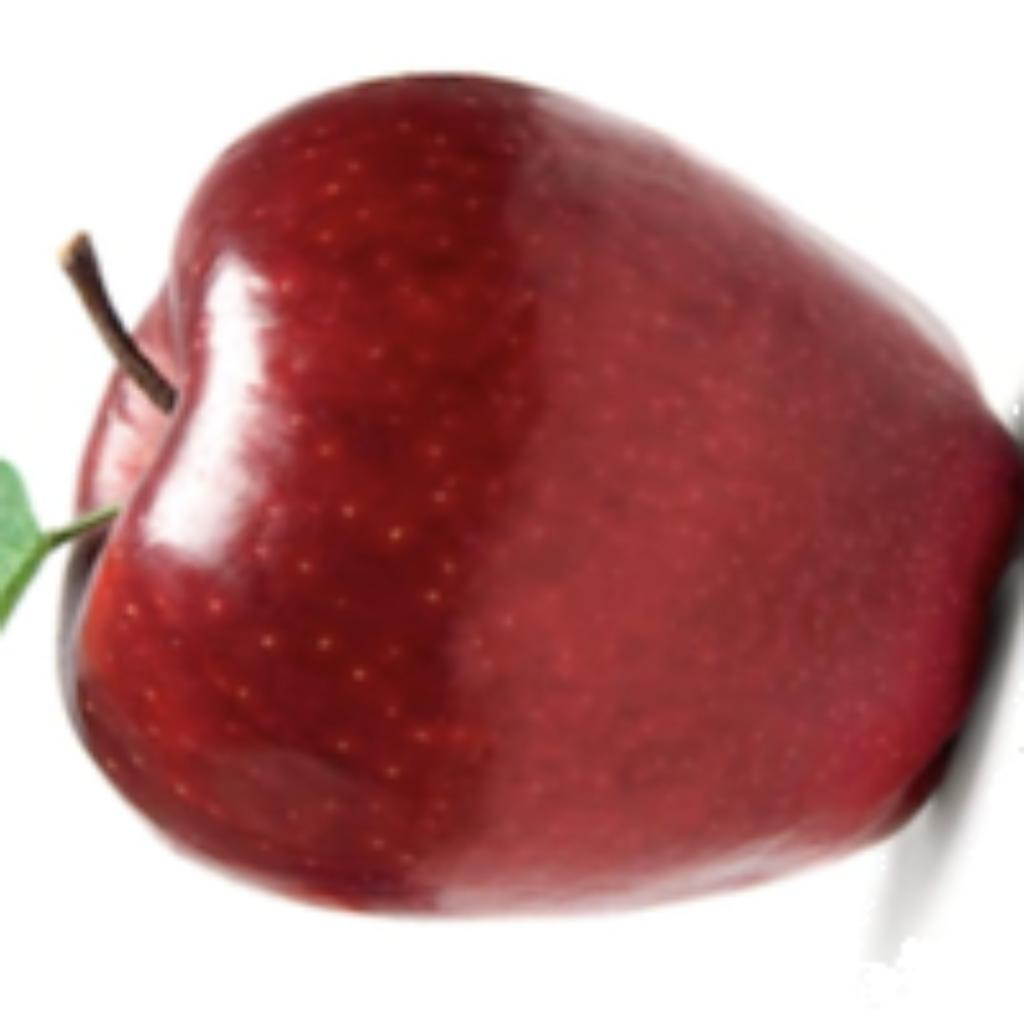apple: (0, 61, 1019, 978)
